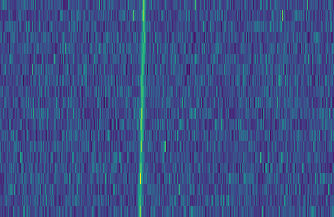signal: (134, 0, 147, 217)
